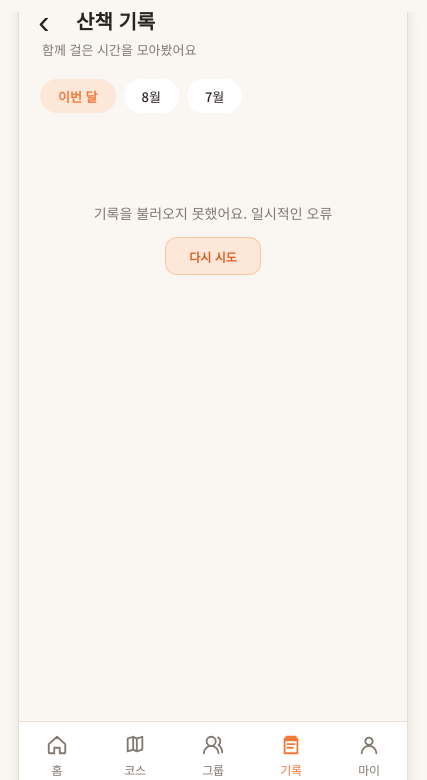
WalkRecordsPage › retries the first page after a record API error
Expected: the message shows "일시적인 오류", x1=251 y1=203 x2=332 y2=223
Click the button "다시 시도".
click(213, 256)  # box x1=165 y1=237 x2=261 y2=275
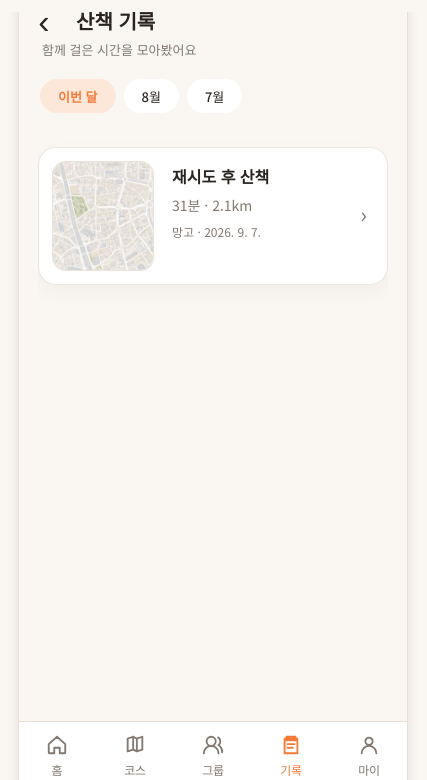
Expected: the button named "재시도 후 산책" is shown, x1=39 y1=148 x2=387 y2=284
